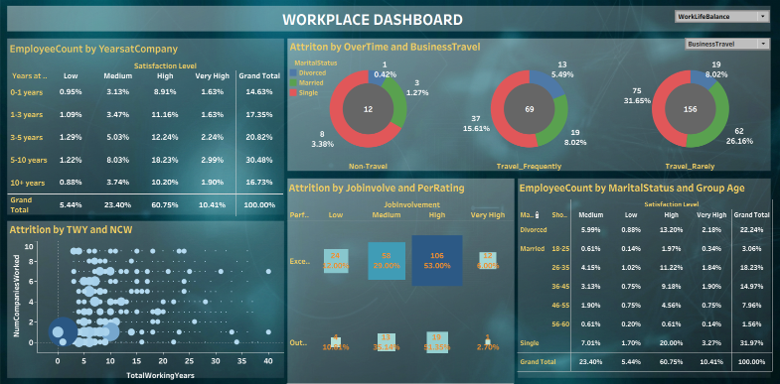

The page's visual inventory and layout, read from the dashboard file:
{"tool":"tableau","page":{"name":"WORKPLACE","canvas":[1620,800],"ordinal":3},"visuals":[{"type":"image","param":"Image/KTDN Nhóm 4 (1).png","box":[8,8,1604,784]},{"type":"worksheet","title":"Title Workplace","mark":"Automatic","box":[507,26,540,51]},{"type":"parameter","param":"[Parameters].[Parameter 1]","box":[1382,33,192,26]},{"type":"worksheet","title":"Attriton by OverTime and BusinessTravel","mark":"Pie","rows":["Calculation_2118265472045066","Calculation_2118265472045066"],"cols":["Calculation_2118266365018127"],"box":[603,88,973,271]},{"type":"parameter","param":"[Parameters].[Parameter 2]","box":[1402,89,173,25]},{"type":"worksheet","title":"EmployeeCount by YearsatCompany","mark":"Automatic","rows":["Calculation_2118265574985740"],"cols":["Calculation_2118265588195341"],"box":[39,92,555,356]},{"type":"legend","title":"Attriton by OverTime and BusinessTravel","param":"[federated.1vb3wkh14cl6ws15iny691sp7f6z].[none:MaritalStatus:nk]","box":[604,130,111,85]},{"type":"worksheet","title":"Attrition by Jobinvolve and PerRating","mark":"Automatic","rows":["PerformanceRating"],"cols":["JobInvolvement"],"box":[601,372,457,413]},{"type":"worksheet","title":"EmployeeCount by MaritalStatus and Group Age","mark":"Automatic","rows":["MaritalStatus","Calculation_2118266372550672"],"cols":["Calculation_2118265588195341"],"box":[1065,372,514,410]},{"type":"worksheet","title":"Attrition by TWY and NCW","mark":"Circle","rows":["NumCompaniesWorked"],"cols":["TotalWorkingYears"],"box":[39,456,557,330]}]}

Visuals, with their boxes in screenshot pixels (x1, y1, x2, y2), scaled from the page's 1620x800 canvas onto the 780x384 screenshot:
image: [4, 4, 776, 380]
"Title Workplace" worksheet: [244, 12, 504, 37]
parameter: [665, 16, 758, 28]
"Attriton by OverTime and BusinessTravel" worksheet (Pie marks): [290, 42, 759, 172]
parameter: [675, 43, 758, 55]
"EmployeeCount by YearsatCompany" worksheet: [19, 44, 286, 215]
"Attriton by OverTime and BusinessTravel" legend: [291, 62, 344, 103]
"Attrition by Jobinvolve and PerRating" worksheet: [289, 179, 509, 377]
"EmployeeCount by MaritalStatus and Group Age" worksheet: [513, 179, 760, 375]
"Attrition by TWY and NCW" worksheet (Circle marks): [19, 219, 287, 377]
